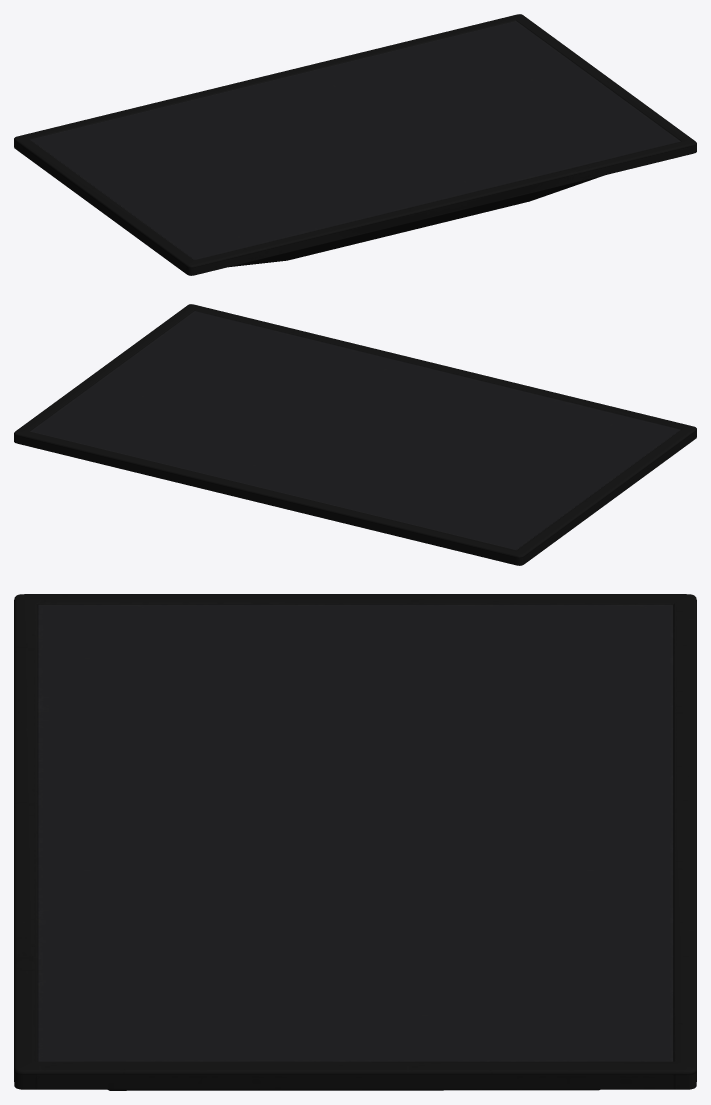
The model's file is Screen.fbx.
The picture shows the model from 3 angles, top to bottom: view 1: azimuth 30°, elevation 25°; view 2: azimuth 150°, elevation 25°; view 3: azimuth 270°, elevation 25°; orthographic projection. The views are drawn at different scales.
Visible parts, largest first — view 1: defaultMaterial; view 2: defaultMaterial; view 3: defaultMaterial.
Part boxes in pixels (box(x1,y1,x2,y2)): defaultMaterial: box(14, 14, 696, 275); defaultMaterial: box(14, 304, 696, 565); defaultMaterial: box(14, 594, 696, 1090).
Bounding box in the file's own units: 200 × 19.76 × 121.
Materials: 1 (1 with a texture image).
